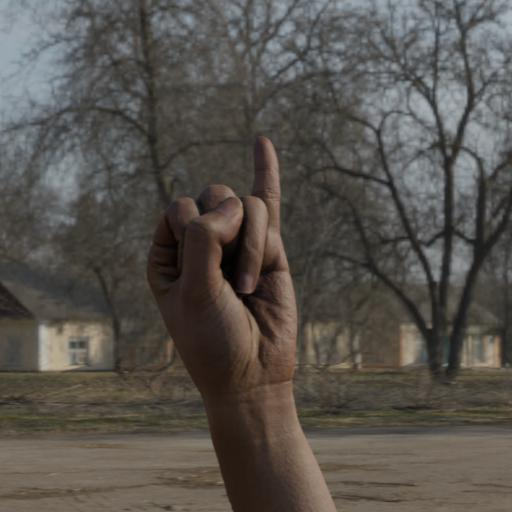I: (129, 134, 304, 391)
